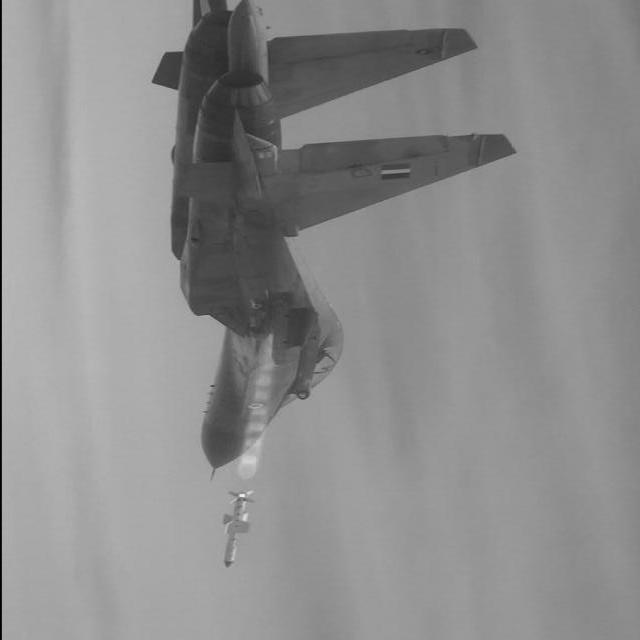Missile: (209, 484, 262, 566)
